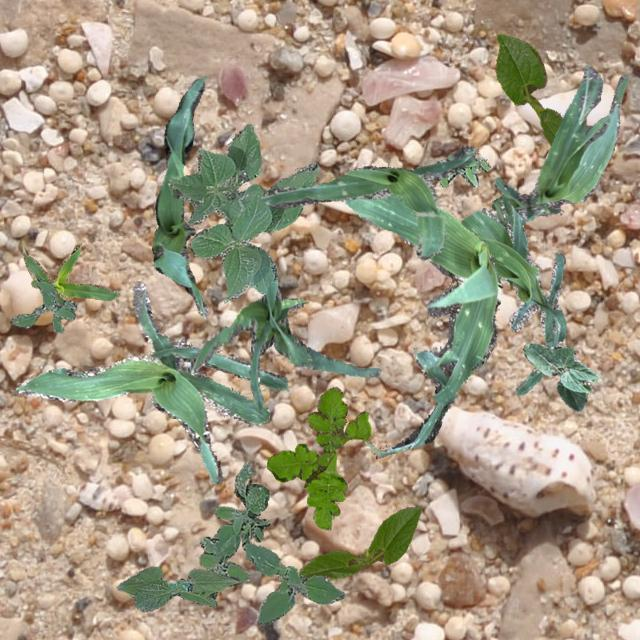crop: (14, 280, 286, 482), (344, 192, 501, 458), (168, 122, 318, 300), (186, 281, 380, 408), (260, 144, 473, 258), (460, 194, 566, 394), (494, 64, 626, 220), (150, 76, 207, 318), (298, 504, 420, 578), (496, 34, 562, 146), (22, 242, 118, 304), (115, 566, 238, 610), (522, 342, 598, 410)
weed: (198, 460, 344, 624), (266, 386, 370, 528), (10, 278, 76, 332), (438, 156, 489, 186)
